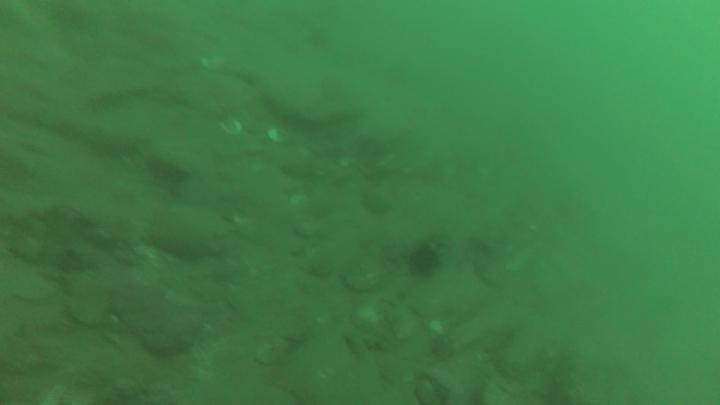echinus: (410, 246, 437, 280)
